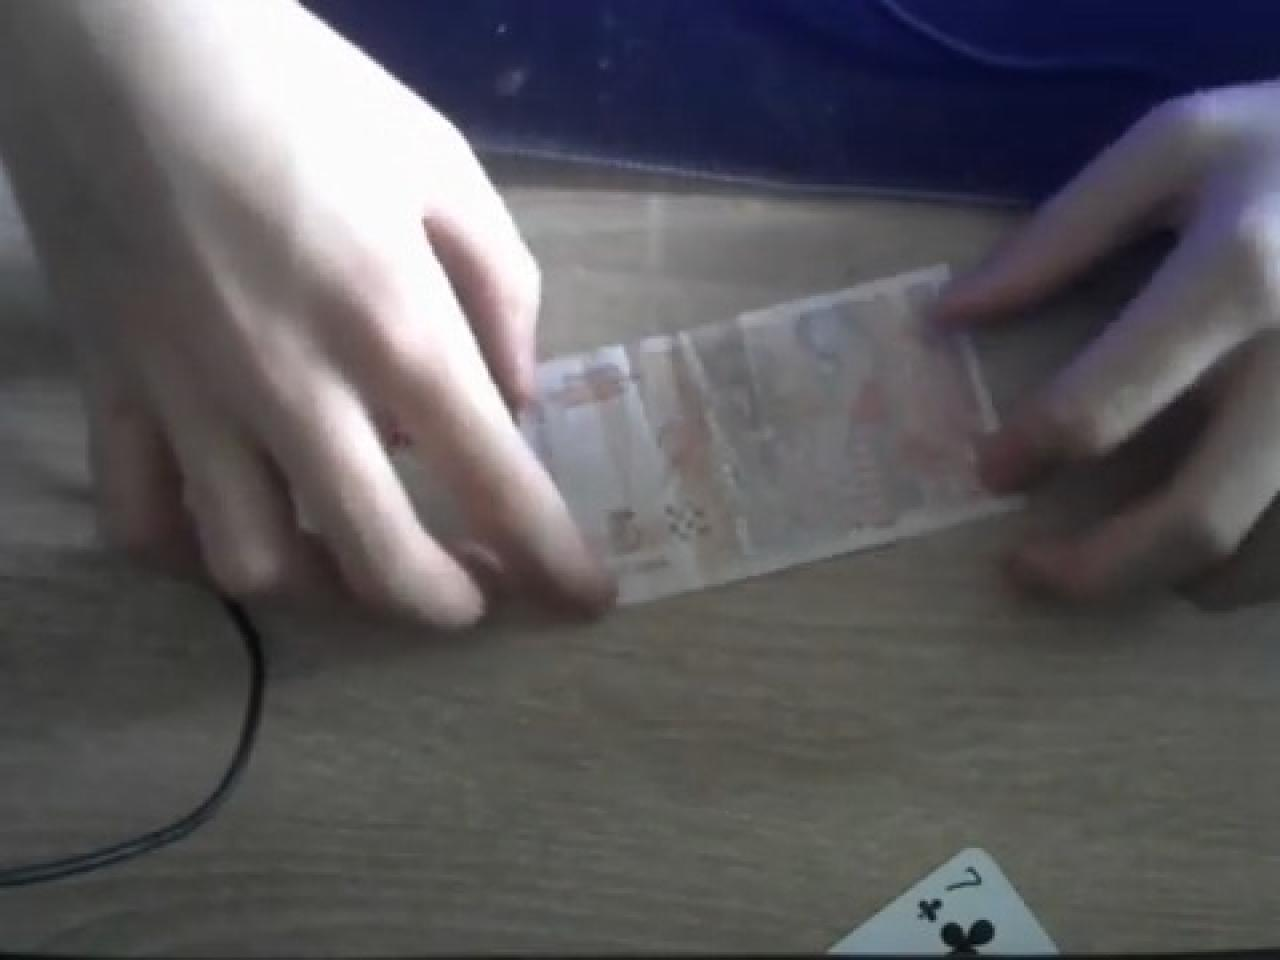5leva: (525, 266, 1080, 611)
